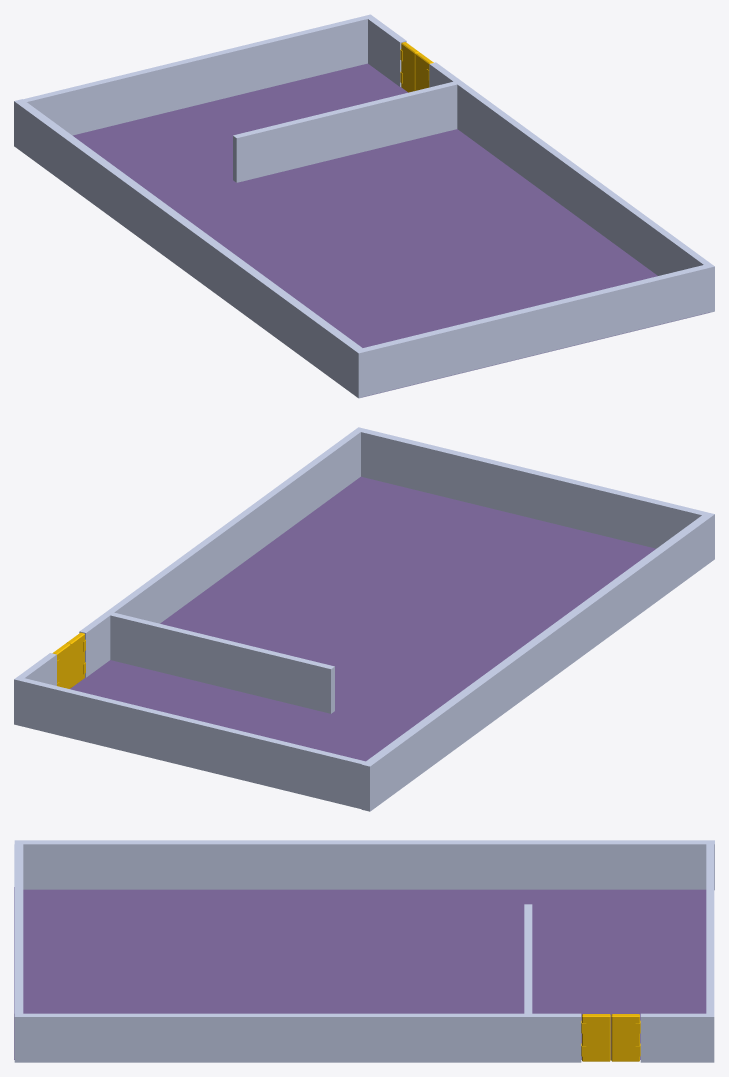
Rendered from maps38.fbx.
The picture shows the model from 3 angles, top to bottom: view 1: azimuth 30°, elevation 25°; view 2: azimuth 150°, elevation 25°; view 3: azimuth 270°, elevation 25°; orthographic projection.
Visible parts, largest first — view 1: wall_01_08_geo, wall_01_07_geo, wall_01_05_geo, wall_01_09_geo10, wall_01_06_geo, wall_01_09_geo13, wall_01_06_geo1, polySurface165; view 2: wall_01_08_geo, wall_01_07_geo, wall_01_09_geo10, wall_01_05_geo, wall_01_06_geo, wall_01_09_geo13, wall_01_06_geo1, polySurface161, polySurface165; view 3: wall_01_08_geo, wall_01_07_geo, wall_01_06_geo, wall_01_06_geo1, wall_01_05_geo, wall_01_09_geo10, polySurface165, polySurface161, wall_01_09_geo13.
Boxes of the visible parts, bbox=[...] form: wall_01_08_geo: bbox=[73, 63, 709, 397]; wall_01_07_geo: bbox=[14, 99, 367, 398]; wall_01_05_geo: bbox=[363, 265, 708, 396]; wall_01_09_geo10: bbox=[23, 16, 367, 135]; wall_01_06_geo: bbox=[429, 62, 714, 312]; wall_01_09_geo13: bbox=[233, 81, 457, 182]; wall_01_06_geo1: bbox=[364, 14, 406, 86]; polySurface165: bbox=[400, 42, 419, 92]; wall_01_08_geo: bbox=[70, 476, 655, 761]; wall_01_07_geo: bbox=[361, 512, 714, 811]; wall_01_09_geo10: bbox=[20, 678, 365, 809]; wall_01_05_geo: bbox=[361, 429, 705, 548]; wall_01_06_geo: bbox=[79, 427, 364, 677]; wall_01_09_geo13: bbox=[110, 612, 334, 713]; wall_01_06_geo1: bbox=[14, 653, 56, 725]; polySurface161: bbox=[67, 632, 85, 687]; polySurface165: bbox=[52, 643, 70, 688]; wall_01_08_geo: bbox=[14, 887, 706, 1059]; wall_01_07_geo: bbox=[14, 840, 714, 890]; wall_01_06_geo: bbox=[14, 1013, 581, 1062]; wall_01_06_geo1: bbox=[640, 1013, 714, 1062]; wall_01_05_geo: bbox=[14, 844, 23, 1058]; wall_01_09_geo10: bbox=[706, 844, 714, 1013]; polySurface165: bbox=[611, 1014, 640, 1061]; polySurface161: bbox=[581, 1014, 610, 1061]; wall_01_09_geo13: bbox=[524, 904, 532, 1013].
Bounding box in the file's own units: 73.34 × 8.89 × 123.
Materials: 2 (2 with a texture image).
